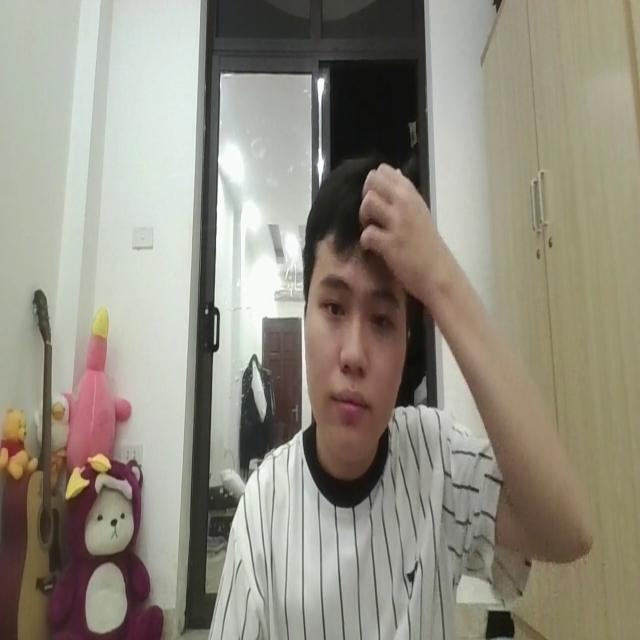student: (203, 135, 594, 640)
